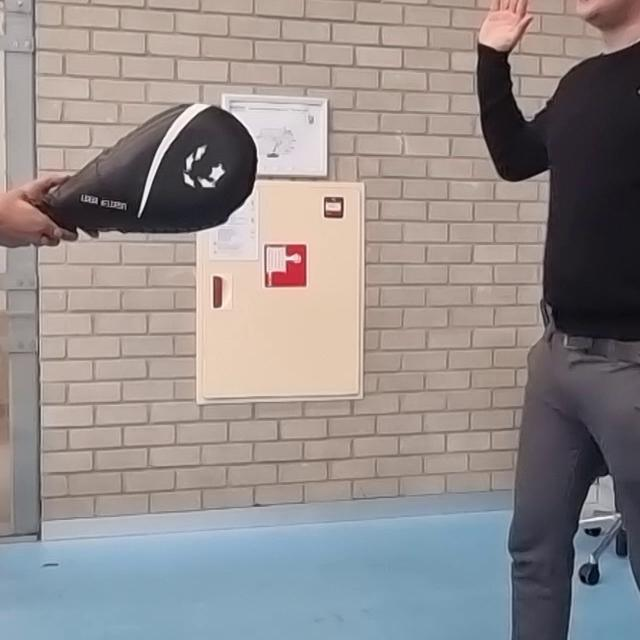paddle: (26, 102, 258, 236)
